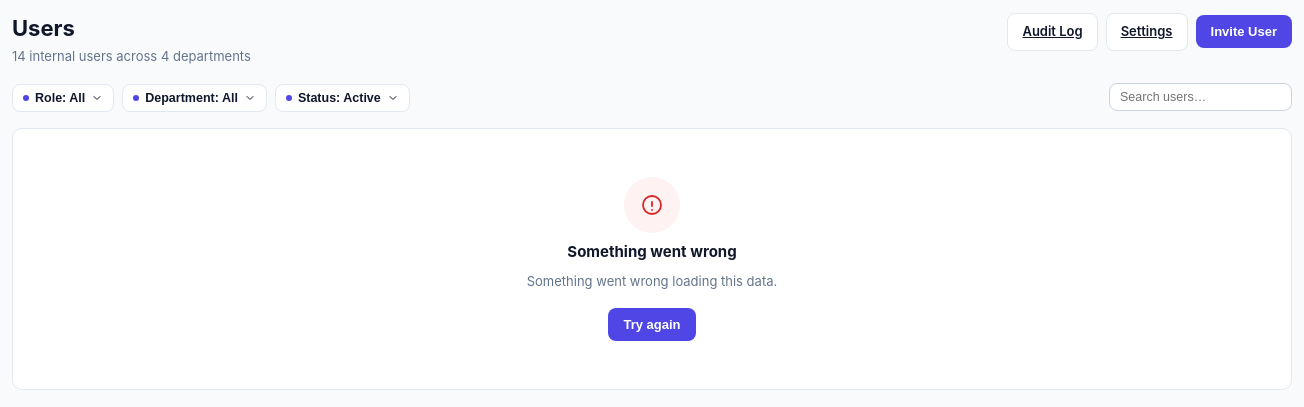
Test case: UsersPage › renders the Error state and retries
What coordinates should you click on to do the following:
click the button "Try again"
I would click on:
 (652, 324)
Its box is [608,308,696,341].
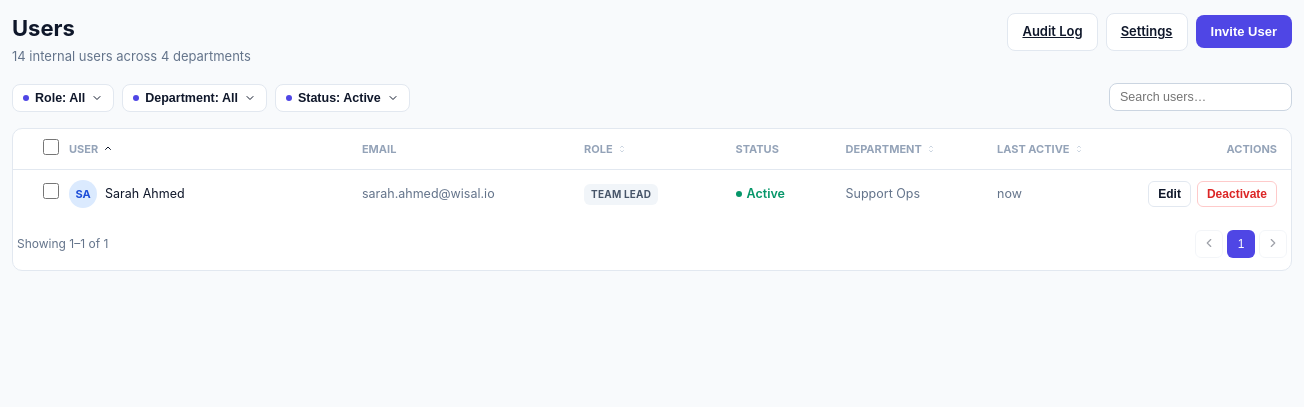
Result: the text "Sarah Ahmed" is shown at [105,186,185,201]
